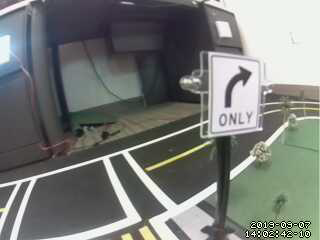Right_only_sign: (199, 53, 260, 131)
